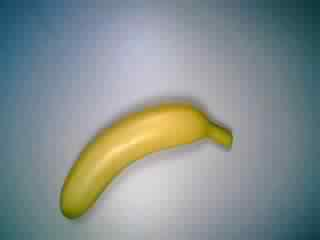banana: (57, 99, 233, 220)
